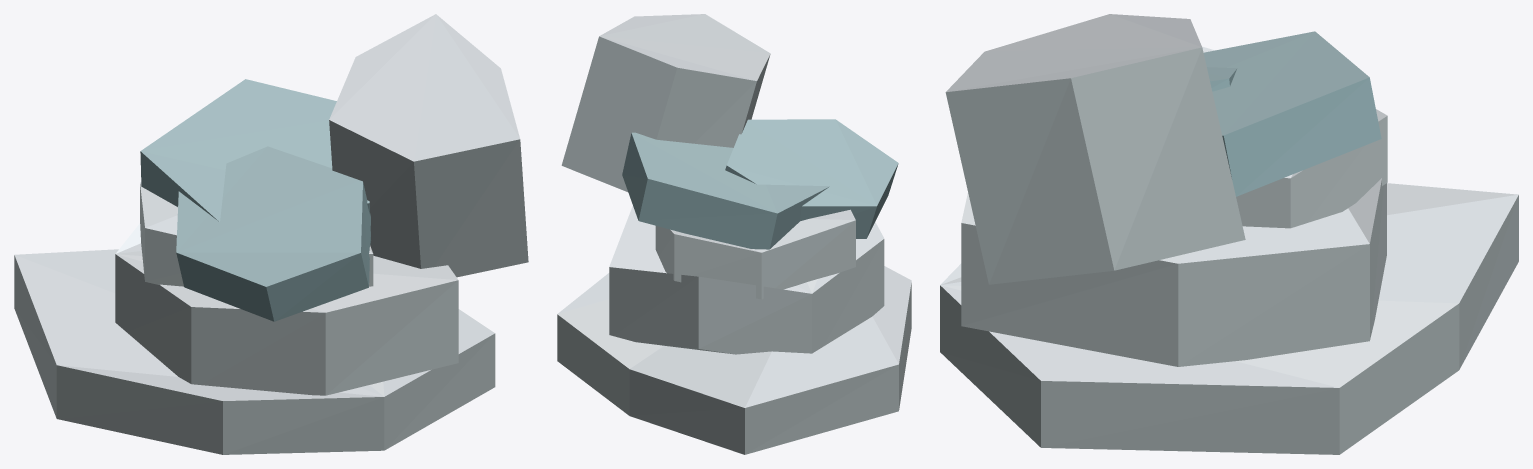
File: rock.floe__stacked__winter.glb
3 renders of one model, left to right at view 1: azimuth 30°, elevation 25°; view 2: azimuth 150°, elevation 25°; view 3: azimuth 270°, elevation 25°, orthographic. The views are drawn at different scales.
Visible parts, largest first — view 1: rock.floe; view 2: rock.floe; view 3: rock.floe.
Part boxes in pixels (box(x1,y1,x2,y2)): rock.floe: box(14, 14, 528, 454); rock.floe: box(557, 14, 911, 454); rock.floe: box(940, 14, 1518, 454).
Size of the model in its own units: 2.05 by 1.62 by 2.06.
